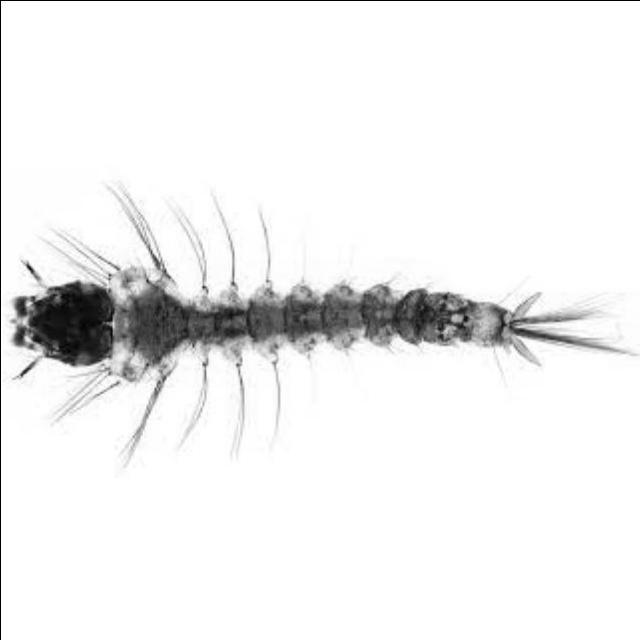larvas: (5, 252, 627, 383)
